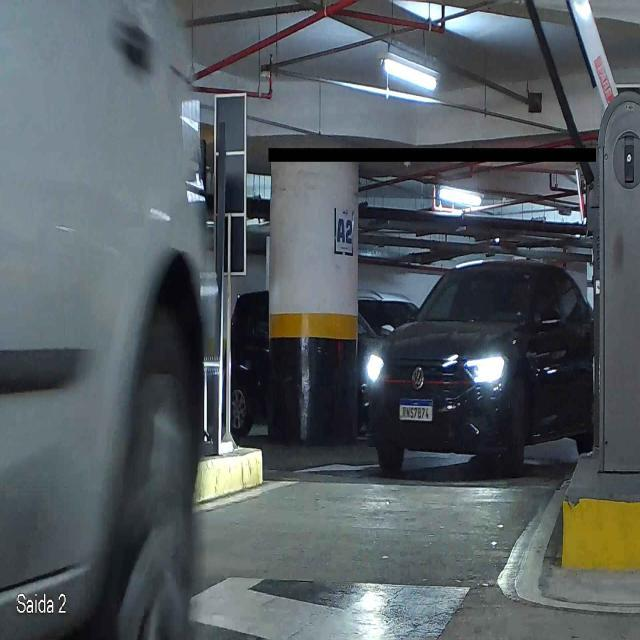mercosul_plate: (398, 397, 434, 422)
